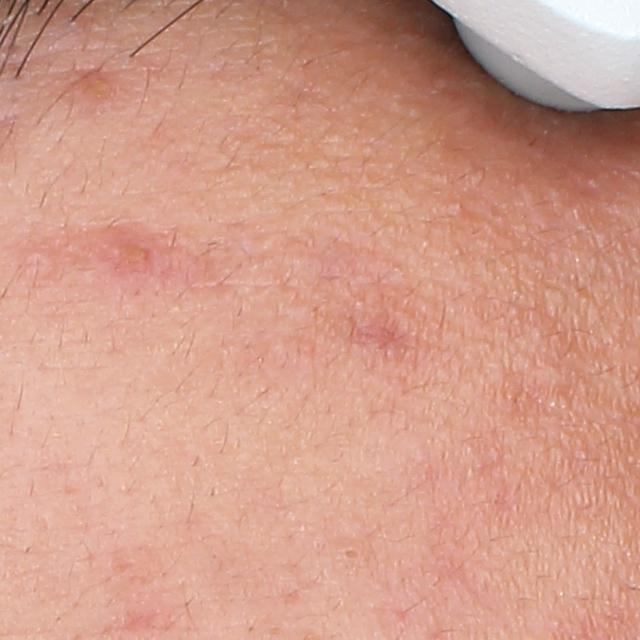comedo: (340, 543, 363, 568)
